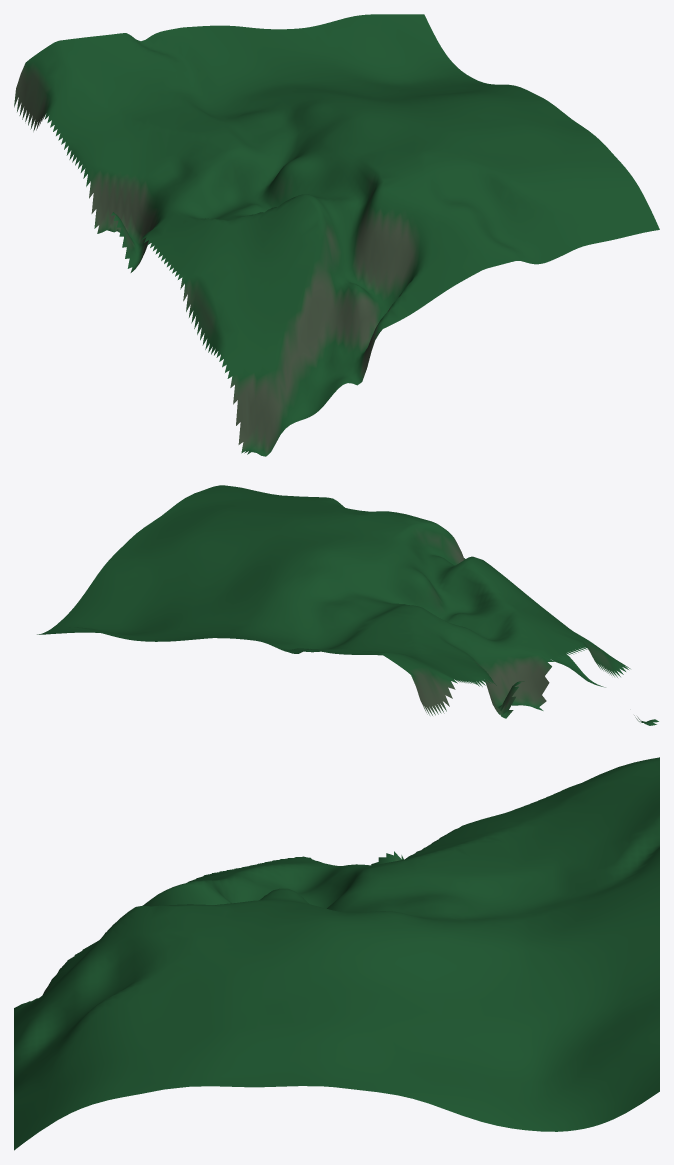
The model's file is payo_land_xm2_y0_lod1.glb.
3 renders of one model, top to bottom at view 1: azimuth 30°, elevation 25°; view 2: azimuth 150°, elevation 25°; view 3: azimuth 270°, elevation 25°, orthographic. The views are drawn at different scales.
Visible parts, largest first — view 1: payo_land_xm2_y0; view 2: payo_land_xm2_y0; view 3: payo_land_xm2_y0.
Part boxes in pixels (x1,y1,x2,y2): payo_land_xm2_y0: (14, 14, 659, 456); payo_land_xm2_y0: (37, 485, 658, 725); payo_land_xm2_y0: (14, 757, 659, 1150).
Bounding box in the file's own units: 258 × 141 × 255.
